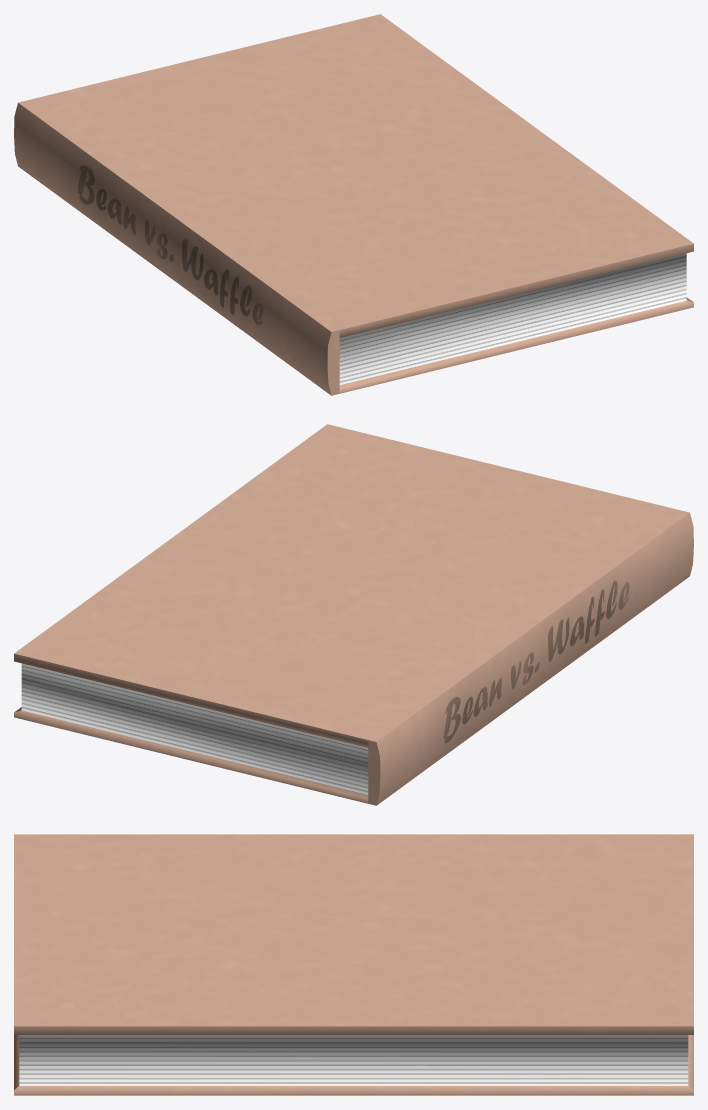
File: PeachBook.FBX
3 views of the same model, one above another, from view 1: azimuth 30°, elevation 25°; view 2: azimuth 150°, elevation 25°; view 3: azimuth 270°, elevation 25° (orthographic). The views are drawn at different scales.
Parts seen in each view (by area): view 1: Box001; view 2: Box001; view 3: Box001.
Part boxes in pixels (x1,y1,x2,y2): Box001: [14, 14, 693, 395]; Box001: [14, 424, 693, 805]; Box001: [14, 834, 693, 1095].
Size of the model in its own units: 20.17 by 3.36 by 29.89.
